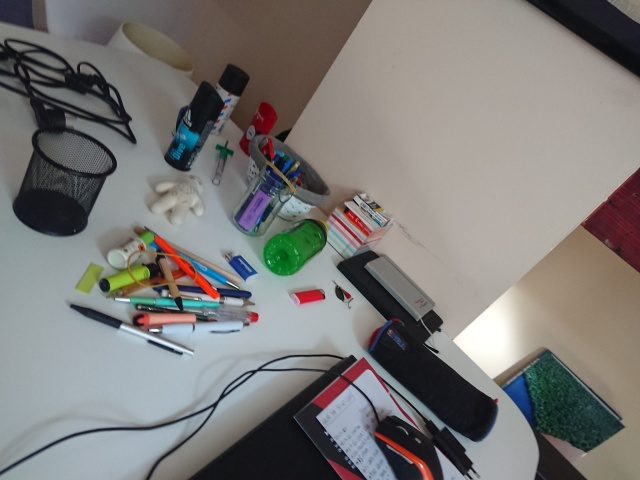Vindi Iso Sport Lemon-Grapefruit 500mL: (261, 217, 329, 278)
